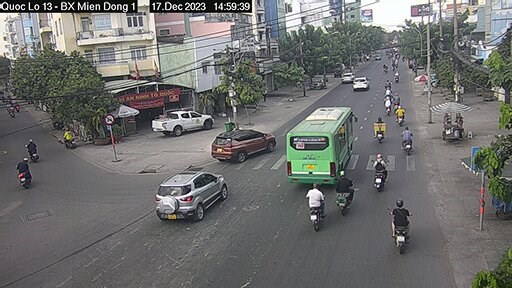bus: (290, 96, 360, 188)
car: (137, 165, 239, 222), (210, 122, 275, 159), (154, 104, 214, 138)
motorbike: (377, 198, 418, 248), (298, 179, 328, 237), (333, 165, 354, 213), (370, 152, 390, 195)
